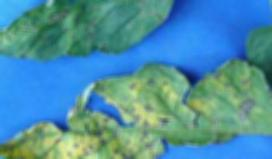Tomato Septoria leaf spot: (0, 55, 272, 159), (0, 0, 204, 73)
